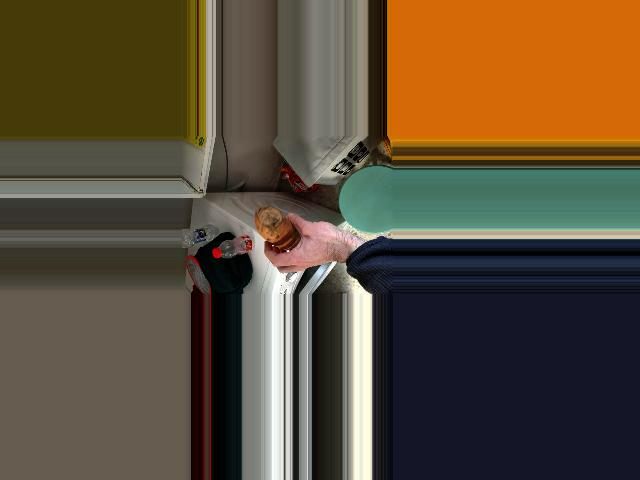sweet_potato: (256, 209, 303, 250)
